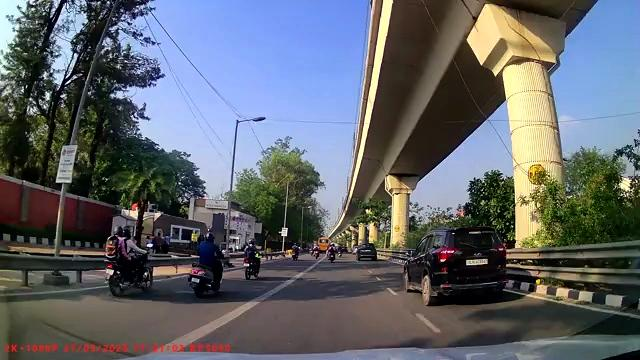motorcycle_with_helmet: (187, 233, 224, 295), (242, 237, 261, 280)
passenger_with_helmet: (104, 223, 155, 298)
